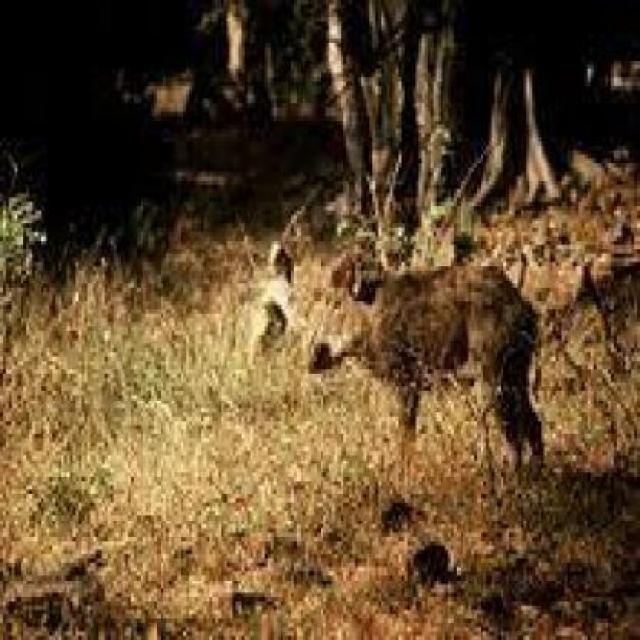Wild Boar: (298, 249, 564, 494)
